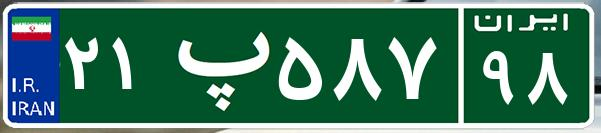1: (110, 28, 158, 105)
2: (57, 26, 110, 107)
5: (273, 28, 330, 110)
7: (385, 28, 445, 110)
8: (330, 28, 385, 110), (525, 38, 570, 115)
9: (475, 38, 525, 113)
پ: (158, 15, 273, 115)
